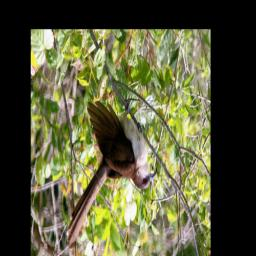Cuckoo: (86, 93, 158, 252)
